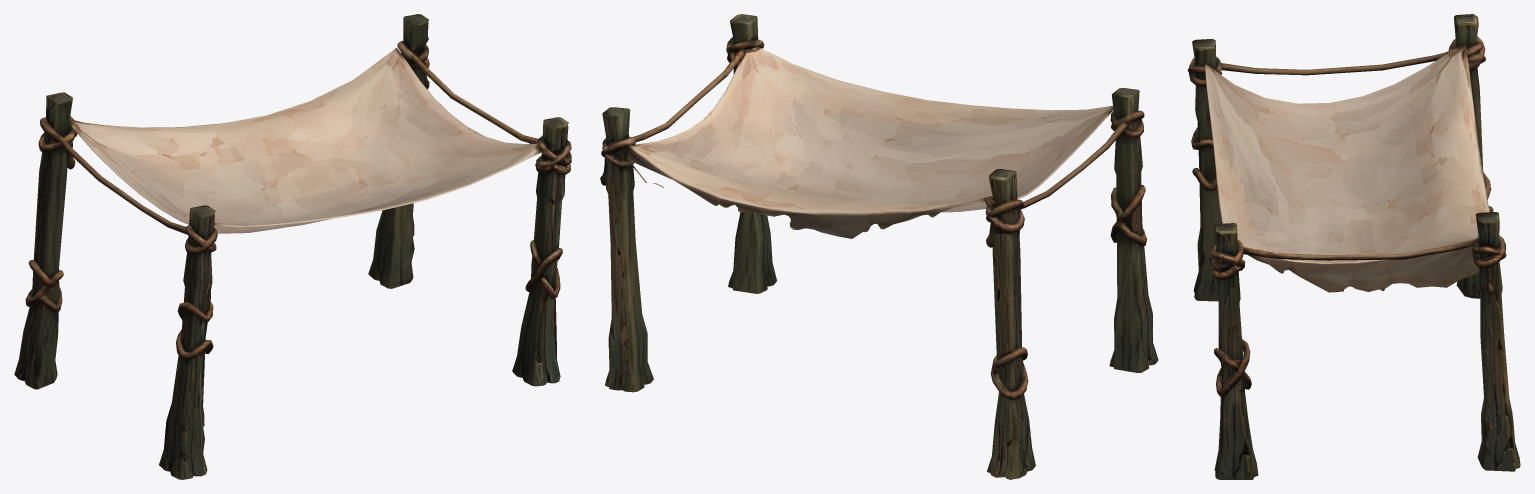
The model's file is act1_kit_v1_canopy_frame.glb.
The picture shows the model from 3 angles, left to right: view 1: azimuth 30°, elevation 25°; view 2: azimuth 150°, elevation 25°; view 3: azimuth 270°, elevation 25°; orthographic projection. The views are drawn at different scales.
Visible parts, largest first — view 1: act1_kit_v1_canopy_frame; view 2: act1_kit_v1_canopy_frame; view 3: act1_kit_v1_canopy_frame.
Part boxes in pixels (x1,y1,x2,y2): act1_kit_v1_canopy_frame: (14, 14, 571, 479); act1_kit_v1_canopy_frame: (600, 14, 1158, 479); act1_kit_v1_canopy_frame: (1187, 14, 1520, 479).
Size of the model in its own units: 1 by 0.645 by 0.6933.
Materials: 1 (1 with a texture image).
